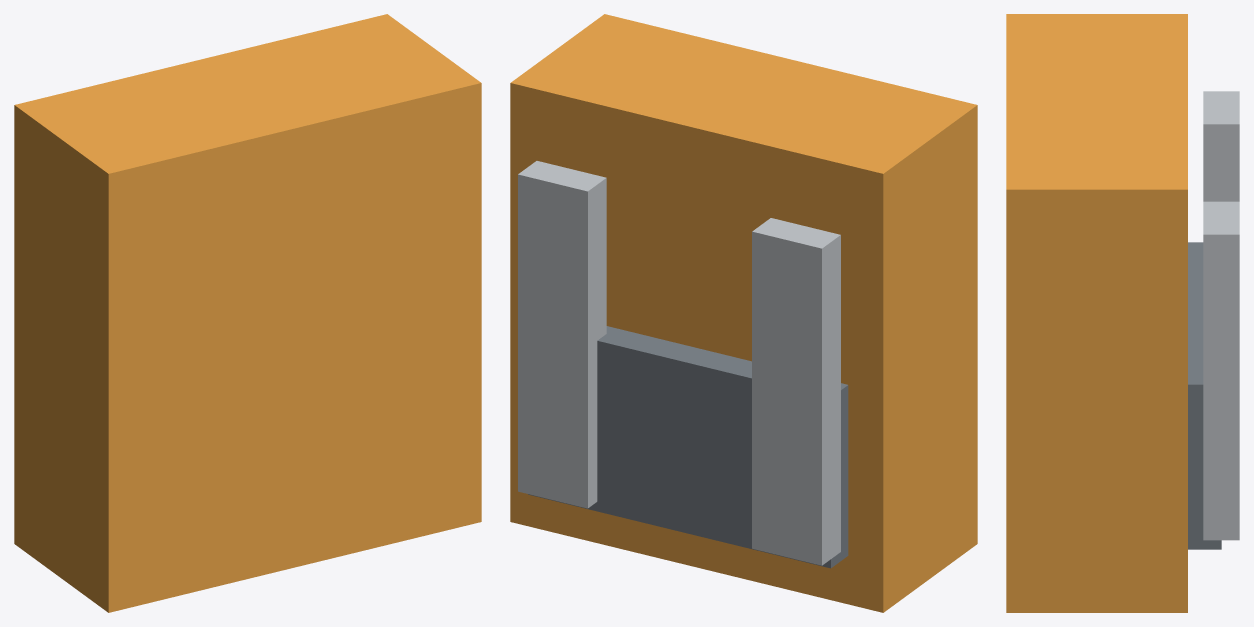
Rendered from mech-hangar-and-battle-frames-field-repair-pack-76b693d5__26918.glb.
The picture shows the model from 3 angles, left to right: view 1: azimuth 30°, elevation 25°; view 2: azimuth 150°, elevation 25°; view 3: azimuth 270°, elevation 25°; orthographic projection. The views are drawn at different scales.
Visible parts, largest first — view 1: field-repair-pack; view 2: field-repair-pack; view 3: field-repair-pack.
Part boxes in pixels (<box>): field-repair-pack: <box>14,14,481,612</box>; field-repair-pack: <box>510,14,977,612</box>; field-repair-pack: <box>1006,14,1239,612</box>.
Size of the model in its own units: 0.8 by 0.9 by 0.45.
